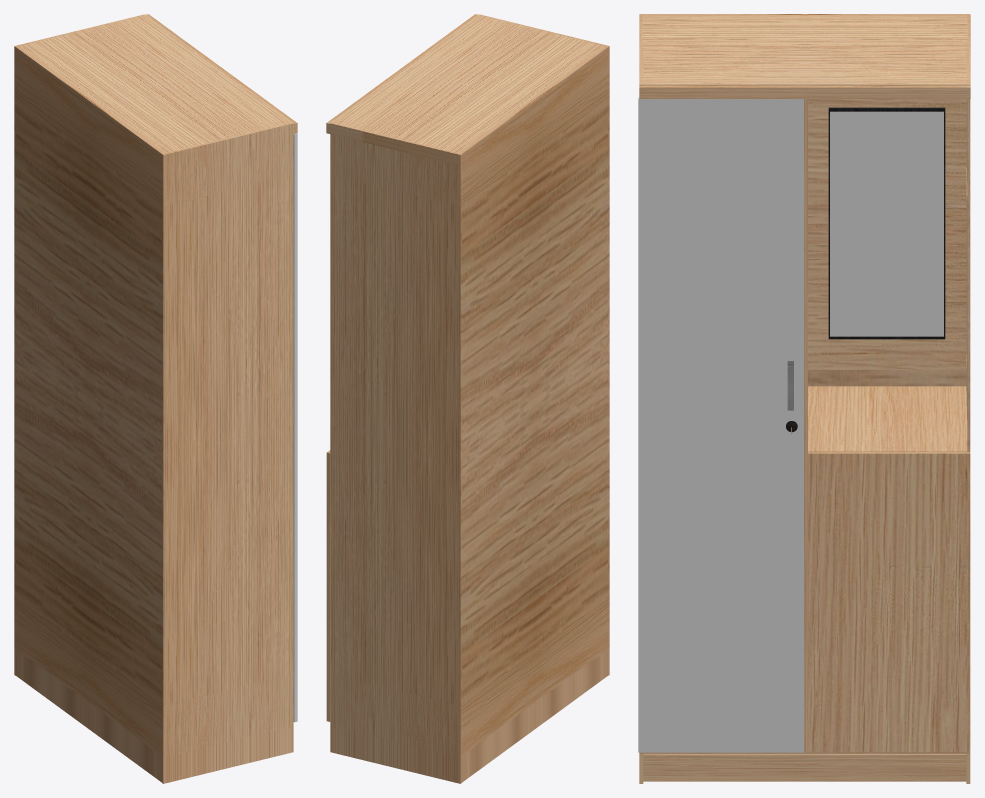
The model's file is lemaribesar putih.fbx.
3 renders of one model, left to right at view 1: azimuth 30°, elevation 25°; view 2: azimuth 150°, elevation 25°; view 3: azimuth 270°, elevation 25°, orthographic. The views are drawn at different scales.
Visible parts, largest first — view 1: Cube.001, Cube.010, Cube.002; view 2: Cube.001, Cube.002, Cube.011; view 3: Cube.010, Cube.011, Cube.001, kaca, Cube.005, Cube.007, Cube, Cube.002, Cube.003.
Boxes of the visible parts, x1,y1,x2,y2 form: Cube.001: (14, 14, 293, 783); Cube.010: (293, 133, 297, 722); Cube.002: (146, 14, 297, 133); Cube.001: (330, 14, 609, 783); Cube.002: (326, 14, 477, 165); Cube.011: (326, 450, 330, 721); Cube.010: (638, 97, 803, 752); Cube.011: (808, 452, 970, 752); Cube.001: (639, 14, 970, 783); kaca: (828, 107, 945, 339); Cube.005: (808, 99, 966, 369); Cube.007: (808, 386, 967, 451); Cube: (643, 754, 966, 781); Cube.002: (639, 15, 970, 98); Cube.003: (804, 99, 807, 752).
Size of the model in its own units: 45.25 by 184 by 79.2.
6 materials, 2 textured.
